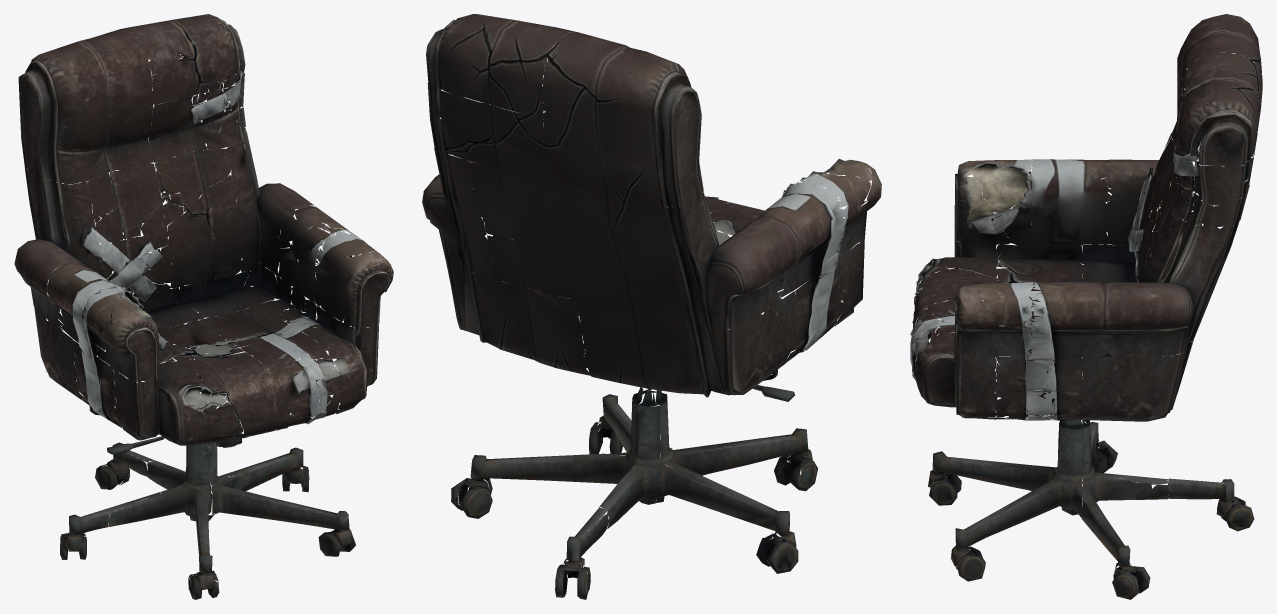
File: armchair.glb
The picture shows the model from 3 angles, left to right: view 1: azimuth 30°, elevation 25°; view 2: azimuth 150°, elevation 25°; view 3: azimuth 270°, elevation 25°; orthographic projection. The views are drawn at different scales.
Parts seen in each view (by area): view 1: geometry_0; view 2: geometry_0; view 3: geometry_0.
Part boxes in pixels (bbox=[...]): geometry_0: bbox=[14, 14, 393, 599]; geometry_0: bbox=[422, 14, 881, 599]; geometry_0: bbox=[910, 14, 1262, 599].
Size of the model in its own units: 0.7786 by 1.2 by 0.7973.
Materials: 1 (1 with a texture image).
